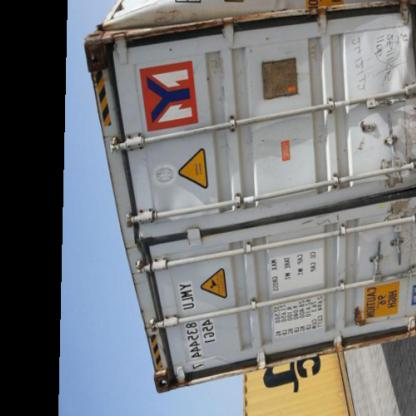Damage: (350, 16, 416, 248), (101, 2, 334, 44)
